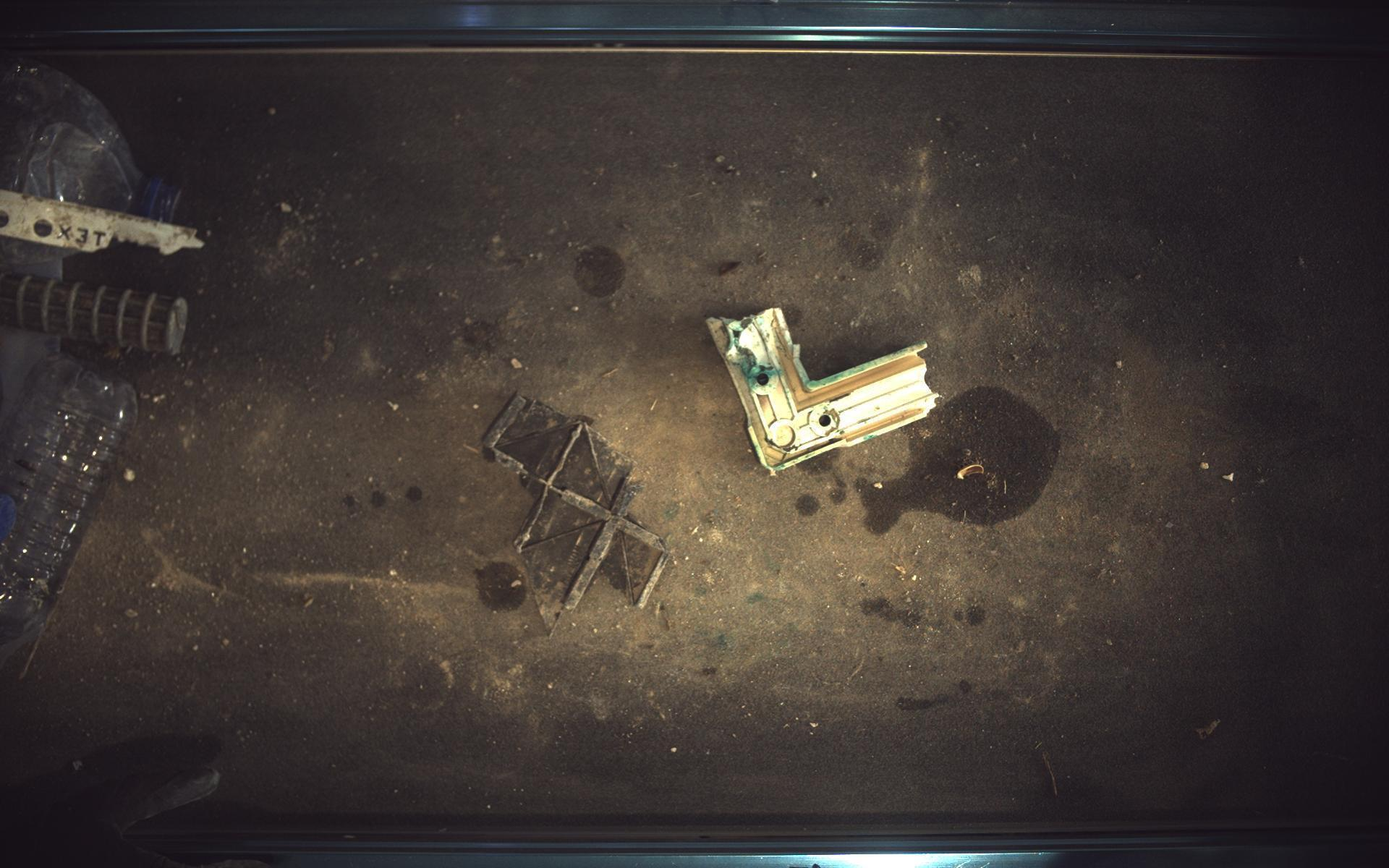plastic: (483, 394, 670, 634), (708, 308, 938, 475)
